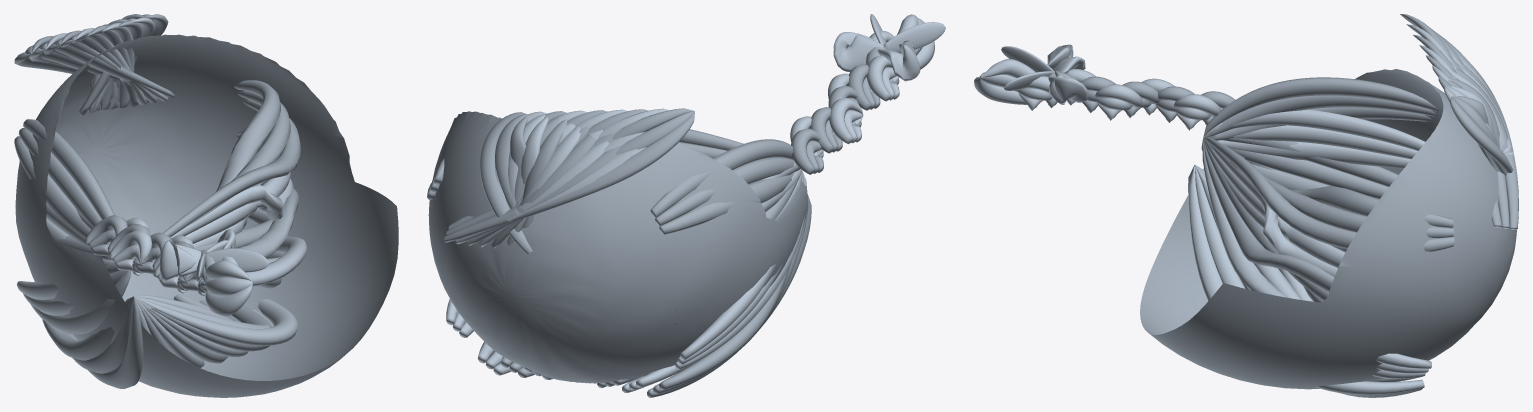
3 renders of one model, left to right at view 1: azimuth 30°, elevation 25°; view 2: azimuth 150°, elevation 25°; view 3: azimuth 270°, elevation 25°, orthographic. The views are drawn at different scales.
Visible parts, largest first — view 1: CrownHair_ref05, BackHair_Gather_07_Strand2, SideHair_Gather_1_0_Strand0, SideHair_Gather_1_0_Strand2, SideHair_Gather_-1_0_Strand0, SideHair_Gather_1_1_Strand0, BackHair_Gather_00_Strand2, SideHair_Gather_-1_0_Strand1, SideHair_Gather_1_0_Strand1, SideHair_Gather_-1_0_Strand2, SideHair_Gather_-1_3_Strand2, BackHair_Gather_00_Strand0 (+34 smaller); view 2: CrownHair_ref05, FrontHair_Sweep_00_Strand2, SideHair_Gather_-1_0_Strand0, BackHair_Gather_00_Strand0, FrontHair_Sweep_08_Strand0, SideHair_Gather_-1_0_Strand1, SideHair_Gather_-1_0_Strand2, SideHair_Gather_-1_3_Strand0, Hair_Ribbon_Loop_1, FrontHair_Sweep_00_Strand1, FrontHair_Sweep_04_Strand2, SideHair_Gather_-1_3_Strand2 (+23 smaller); view 3: CrownHair_ref05, SideHair_Gather_-1_0_Strand0, SideHair_Gather_1_0_Strand0, BackHair_Gather_07_Strand2, SideHair_Gather_-1_1_Strand0, SideHair_Gather_1_2_Strand2, SideHair_Gather_1_3_Strand2, SideHair_Gather_-1_0_Strand1, SideHair_Gather_-1_1_Strand1, SideHair_Gather_-1_2_Strand1, SideHair_Gather_-1_1_Strand2, SideHair_Gather_1_0_Strand1 (+21 smaller).
Part boxes in pixels (bbox=[...]): CrownHair_ref05: bbox=[15, 34, 398, 397]; BackHair_Gather_07_Strand2: bbox=[135, 297, 297, 345]; SideHair_Gather_1_0_Strand0: bbox=[163, 99, 300, 237]; SideHair_Gather_1_0_Strand2: bbox=[216, 80, 280, 191]; SideHair_Gather_-1_0_Strand0: bbox=[23, 119, 114, 219]; SideHair_Gather_1_1_Strand0: bbox=[170, 178, 293, 237]; BackHair_Gather_00_Strand2: bbox=[69, 297, 143, 388]; SideHair_Gather_-1_0_Strand1: bbox=[18, 128, 101, 226]; SideHair_Gather_1_0_Strand1: bbox=[188, 90, 290, 225]; SideHair_Gather_-1_0_Strand2: bbox=[14, 136, 90, 238]; SideHair_Gather_-1_3_Strand2: bbox=[30, 270, 130, 334]; BackHair_Gather_00_Strand0: bbox=[42, 296, 133, 360]; CrownHair_ref05: bbox=[428, 111, 807, 383]; FrontHair_Sweep_00_Strand2: bbox=[444, 112, 694, 242]; SideHair_Gather_-1_0_Strand0: bbox=[650, 139, 793, 217]; BackHair_Gather_00_Strand0: bbox=[659, 262, 791, 390]; FrontHair_Sweep_08_Strand0: bbox=[480, 112, 532, 253]; SideHair_Gather_-1_0_Strand1: bbox=[655, 157, 800, 226]; SideHair_Gather_-1_0_Strand2: bbox=[659, 172, 794, 234]; SideHair_Gather_-1_3_Strand0: bbox=[680, 263, 776, 360]; Hair_Ribbon_Loop_1: bbox=[833, 32, 883, 71]; FrontHair_Sweep_00_Strand1: bbox=[446, 111, 694, 235]; FrontHair_Sweep_04_Strand2: bbox=[491, 134, 596, 248]; SideHair_Gather_-1_3_Strand2: bbox=[675, 170, 807, 369]; CrownHair_ref05: bbox=[1140, 69, 1516, 389]; SideHair_Gather_-1_0_Strand0: bbox=[1203, 77, 1438, 137]; SideHair_Gather_1_0_Strand0: bbox=[1203, 138, 1454, 251]; BackHair_Gather_07_Strand2: bbox=[1189, 165, 1424, 395]; SideHair_Gather_-1_1_Strand0: bbox=[1204, 109, 1425, 150]; SideHair_Gather_1_2_Strand2: bbox=[1203, 139, 1334, 292]; SideHair_Gather_1_3_Strand2: bbox=[1202, 138, 1431, 368]; SideHair_Gather_-1_0_Strand1: bbox=[1204, 95, 1437, 137]; SideHair_Gather_-1_1_Strand1: bbox=[1208, 125, 1417, 159]; SideHair_Gather_-1_2_Strand1: bbox=[1229, 148, 1388, 199]; SideHair_Gather_-1_1_Strand2: bbox=[1219, 140, 1410, 168]; SideHair_Gather_1_0_Strand1: bbox=[1203, 138, 1453, 238].
Size of the model in its own units: 0.6276 by 0.5811 by 0.9432.
